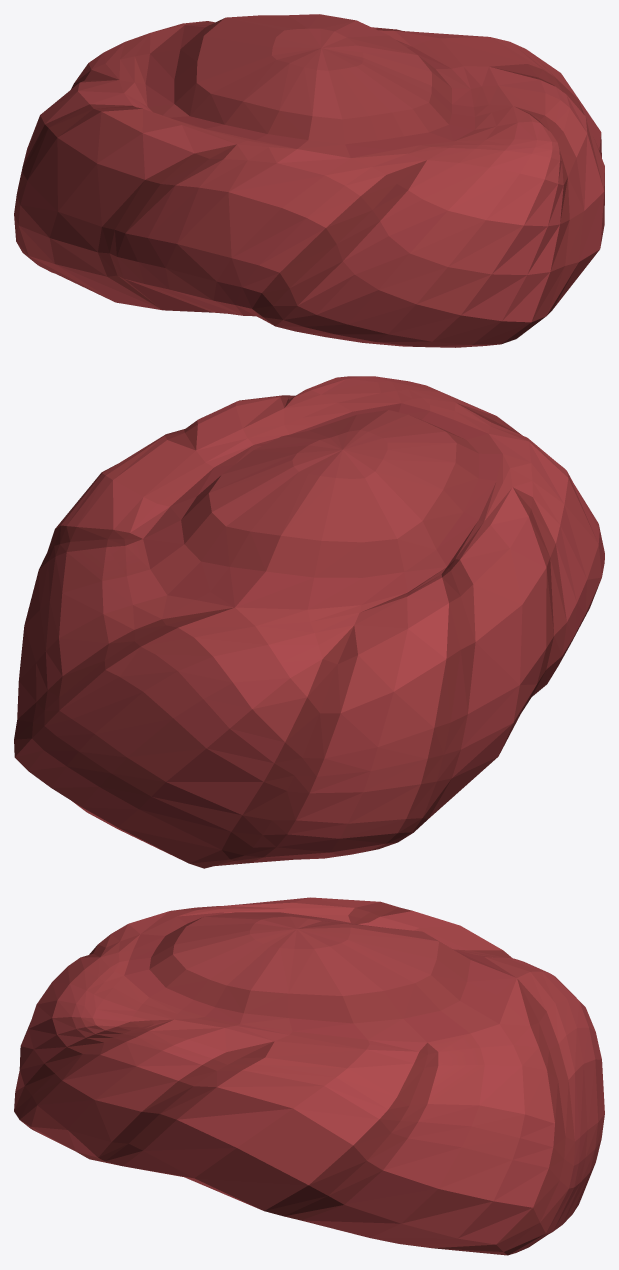
The model's file is turban.glb.
3 views of the same model, one above another, from view 1: azimuth 30°, elevation 25°; view 2: azimuth 150°, elevation 25°; view 3: azimuth 270°, elevation 25° (orthographic). The views are drawn at different scales.
Visible parts, largest first — view 1: turban; view 2: turban; view 3: turban.
Part boxes in pixels (x1,y1,x2,y2): turban: (14,14,604,347); turban: (14,376,604,868); turban: (14,897,604,1255).
Size of the model in its own units: 0.3231 by 0.1938 by 0.3788.
